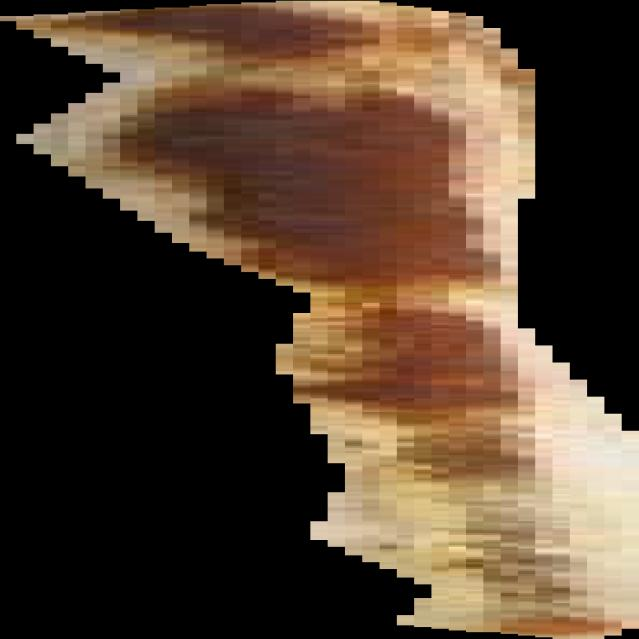Uniform Corrosion: (1, 1, 639, 639)
